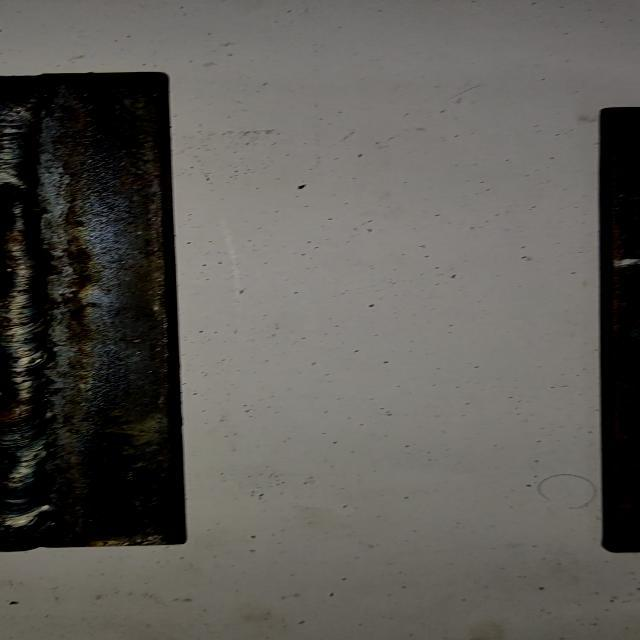Welding Line: (0, 83, 55, 544)
Workpiece: (0, 67, 199, 566)
